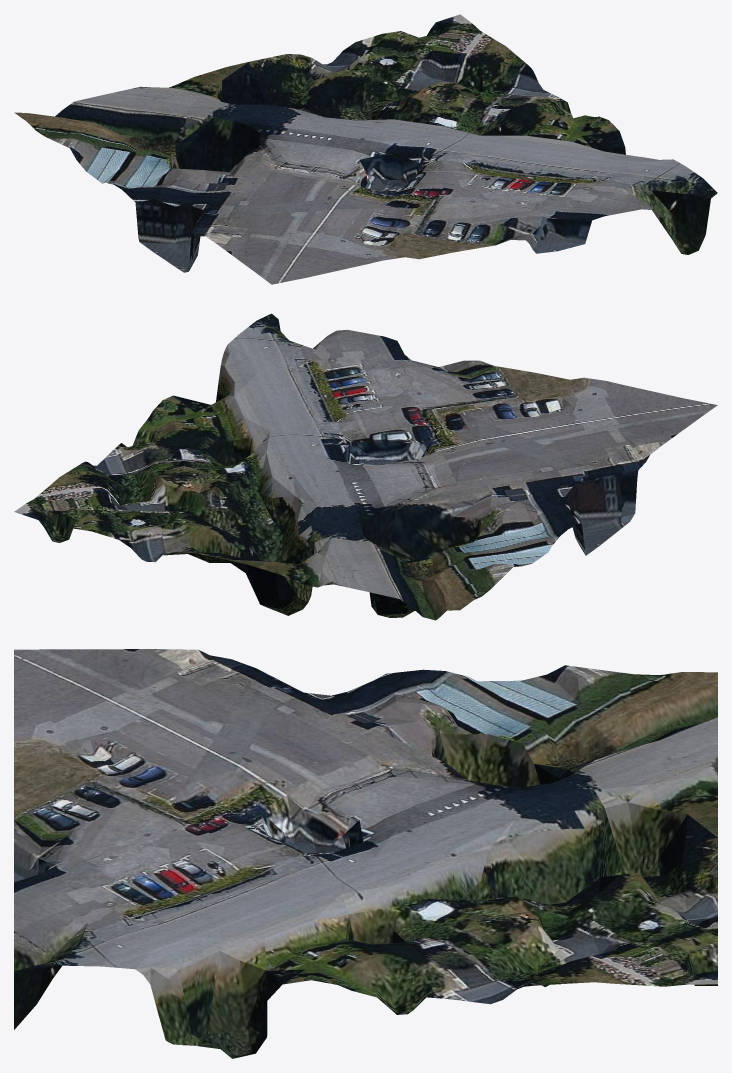
The model's file is map_15_8186_13785.dae.
3 views of the same model, one above another, from view 1: azimuth 30°, elevation 25°; view 2: azimuth 150°, elevation 25°; view 3: azimuth 270°, elevation 25° (orthographic). The views are drawn at different scales.
Parts seen in each view (by area): view 1: Ter0; view 2: Ter0; view 3: Ter0.
Boxes of the visible parts, left/top/right/bottom form: Ter0: left=14, top=14, right=717, bottom=284; Ter0: left=14, top=313, right=717, bottom=620; Ter0: left=14, top=649, right=717, bottom=1058.
Bounding box in the file's own units: 63.88 × 63.88 × 15.19.
Materials: 2 (2 with a texture image).
